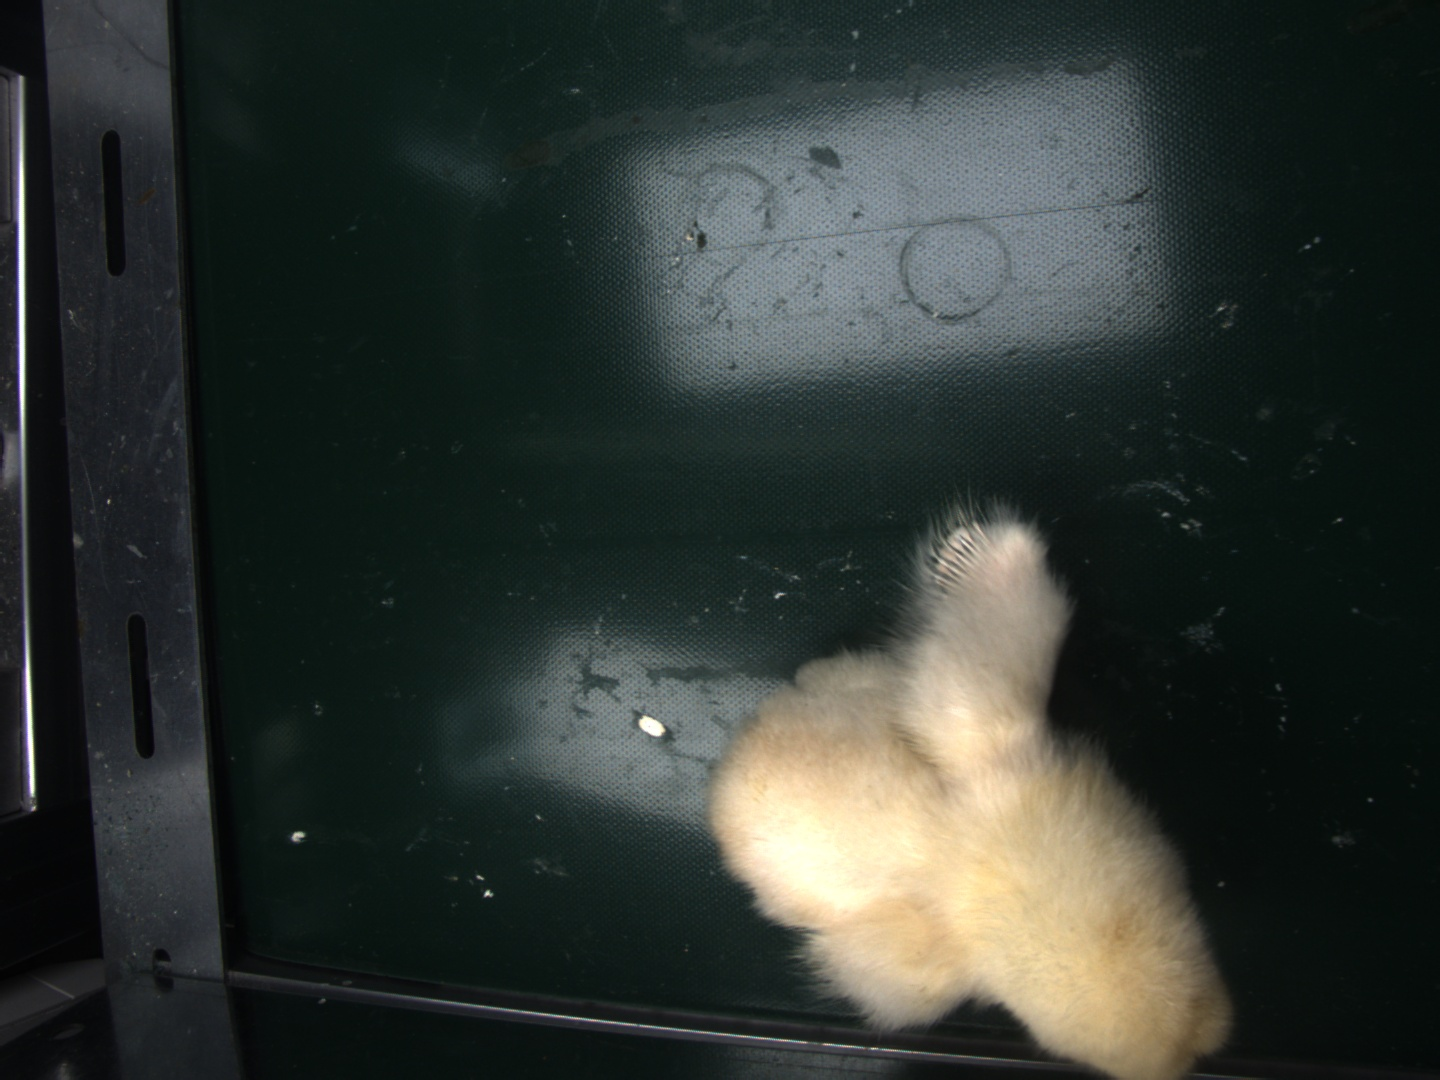male: (933, 517, 993, 593)
